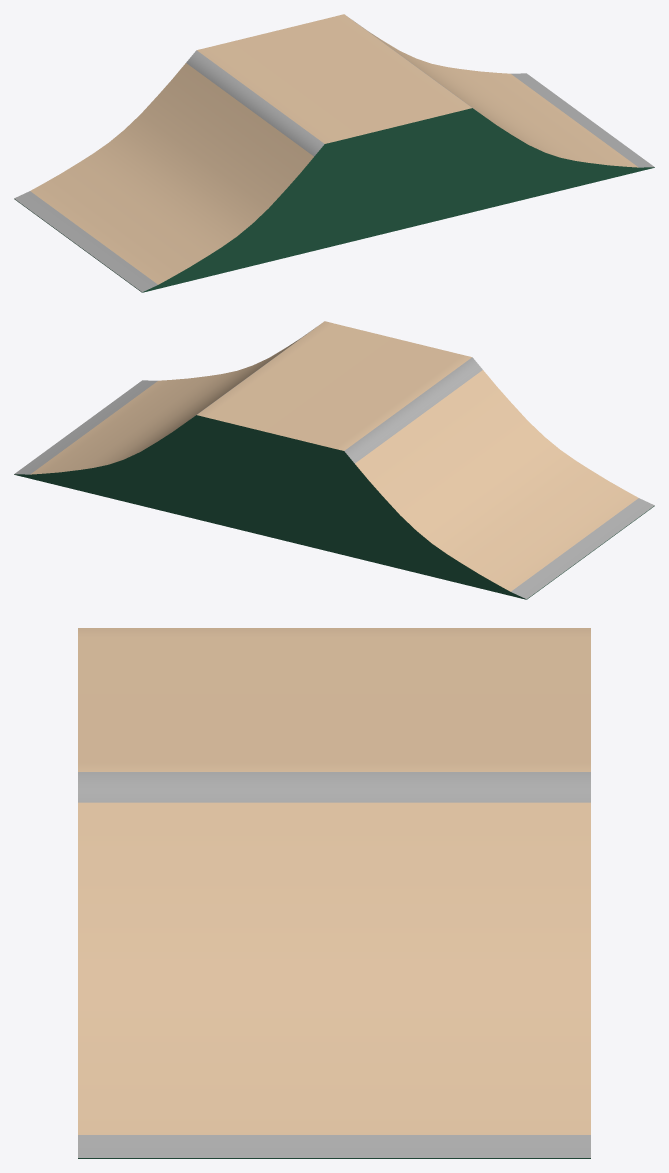
The model's file is ramp_2.fbx.
3 views of the same model, one above another, from view 1: azimuth 30°, elevation 25°; view 2: azimuth 150°, elevation 25°; view 3: azimuth 270°, elevation 25° (orthographic). The views are drawn at different scales.
Visible parts, largest first — view 1: pCube1; view 2: pCube1; view 3: pCube1.
Part boxes in pixels (<box>): pCube1: <box>14,14,654,292</box>; pCube1: <box>14,321,654,599</box>; pCube1: <box>78,628,590,1158</box>.
Bounding box in the file's own units: 13.28 × 2.58 × 5.75.
